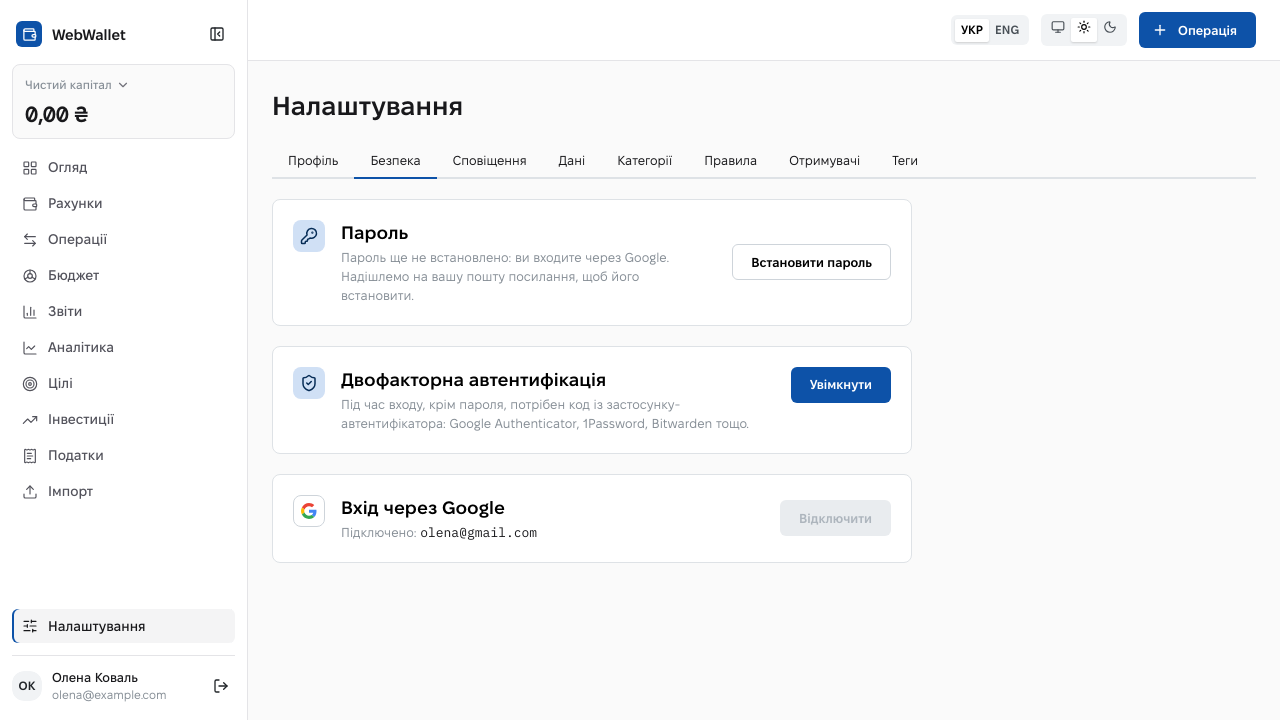
Scenario: Google in the settings › keeps Google for an account without a password and offers to set one by email
Expected: the text "olena@gmail.com" is shown, [420,524,537,541]
Expected: the button "Відключити" is disabled, [780,500,891,536]
Click the button "Встановити пароль". click: point(812, 262)
box: [732,244,891,280]
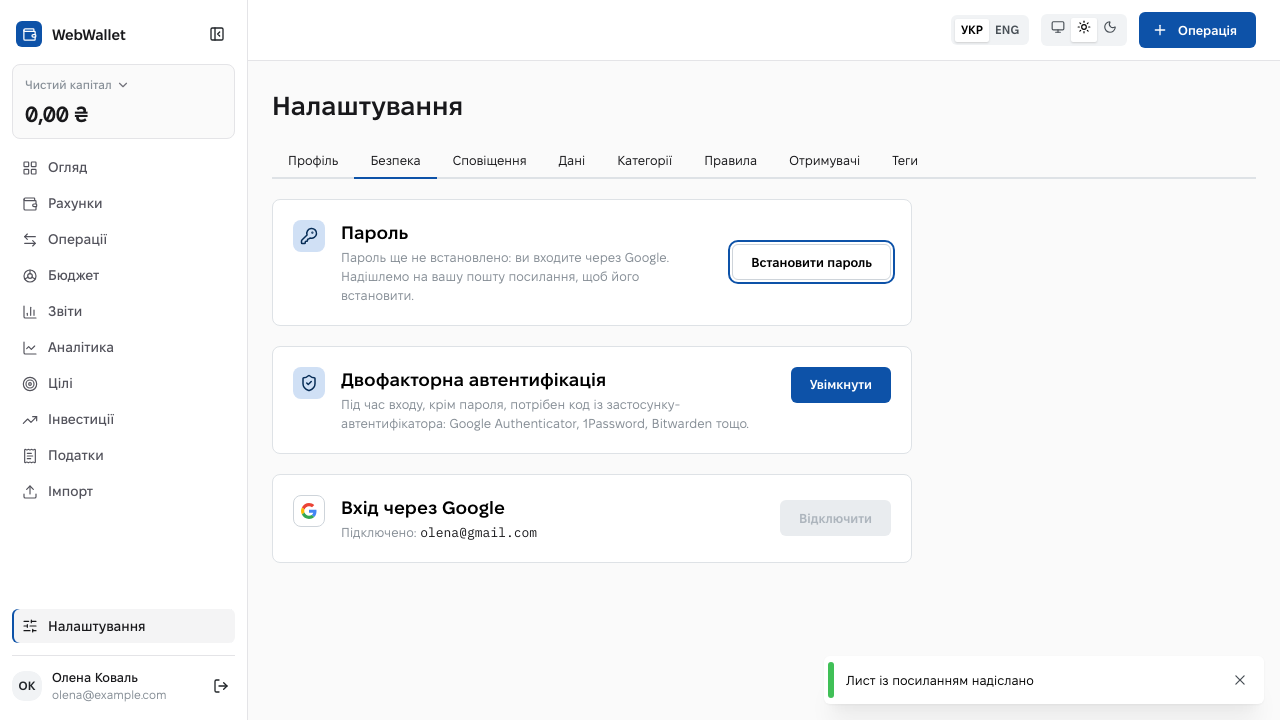
Result: the text "Лист із посиланням надіслано" is shown at [846,673,1034,687]
